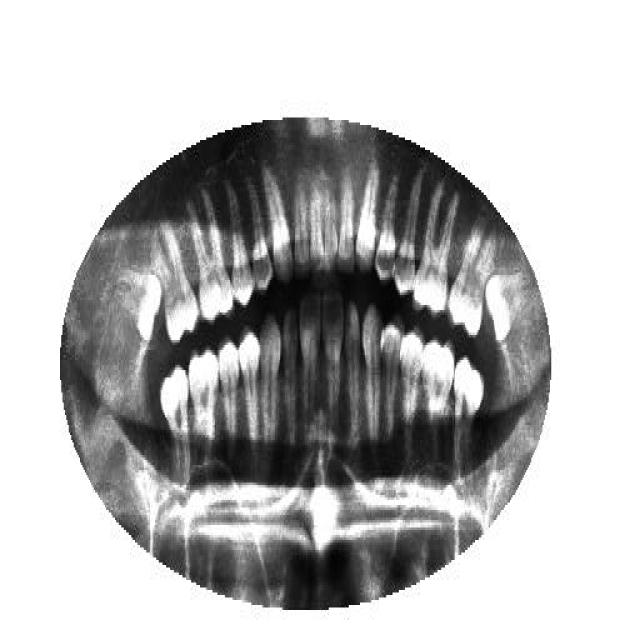Impacted Tooth: (120, 260, 161, 348), (485, 265, 527, 345)
